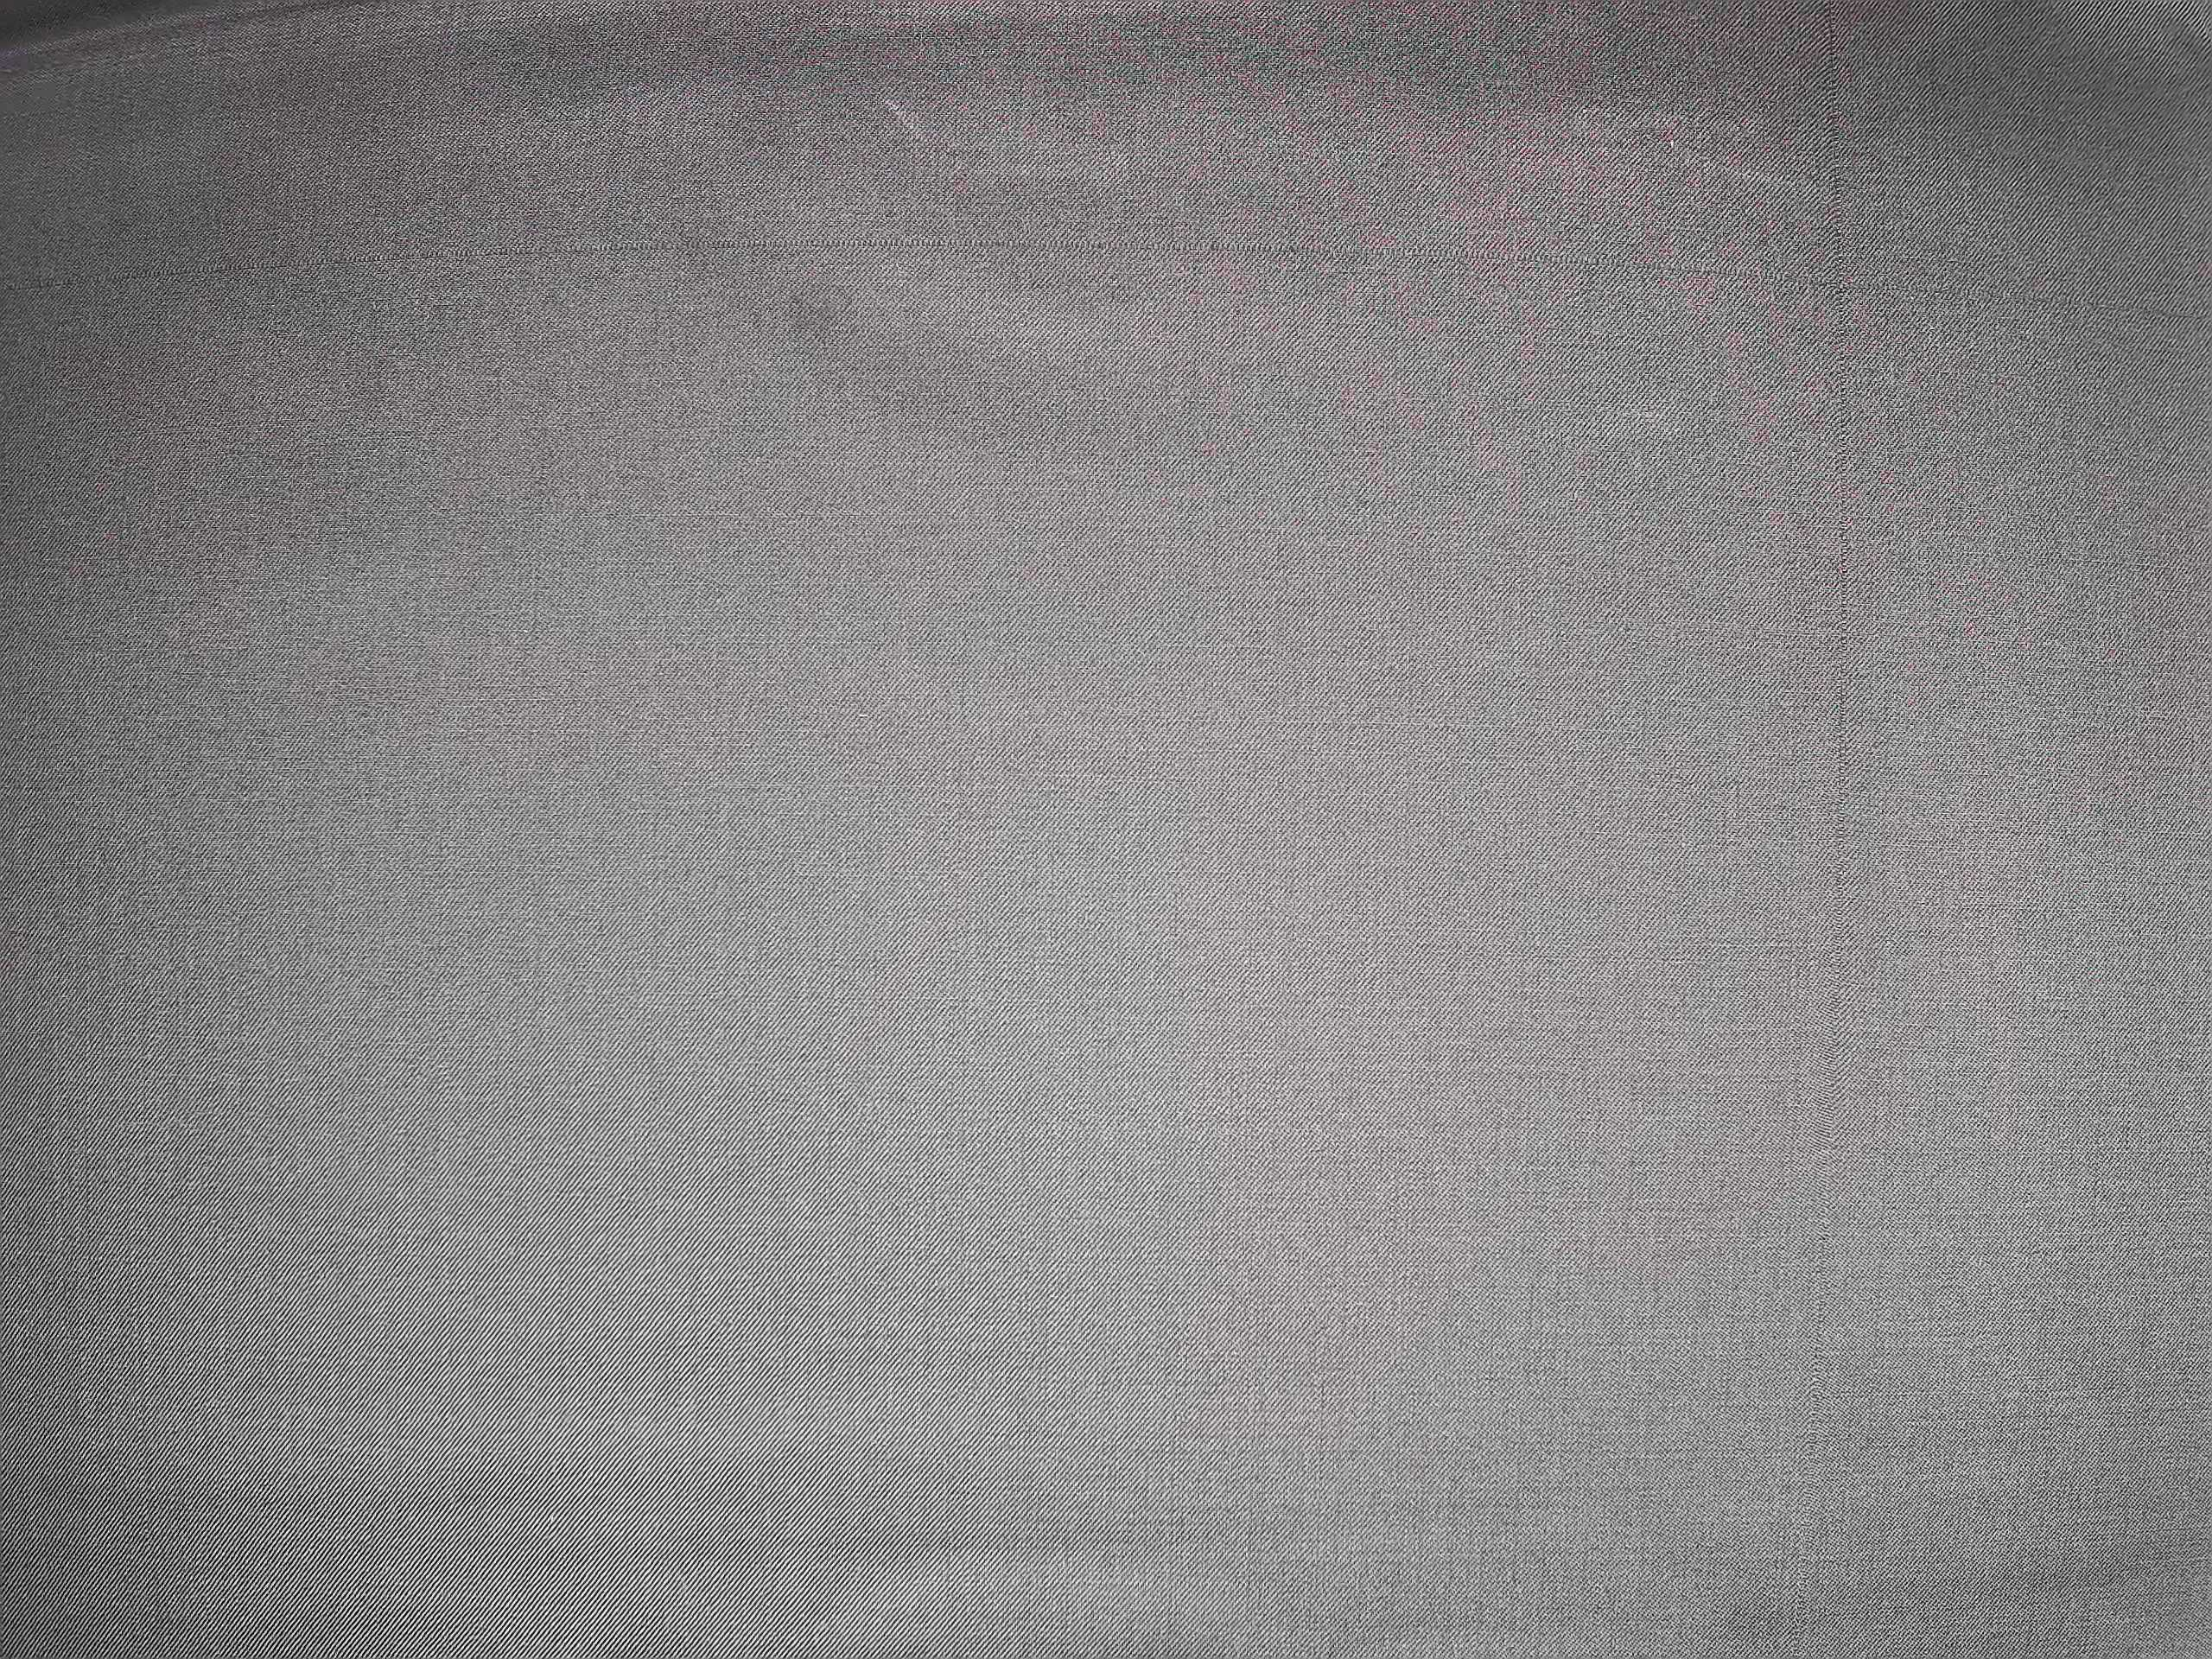hanging-warp: (1811, 9, 1865, 1295)
others: (310, 225, 2205, 331)
